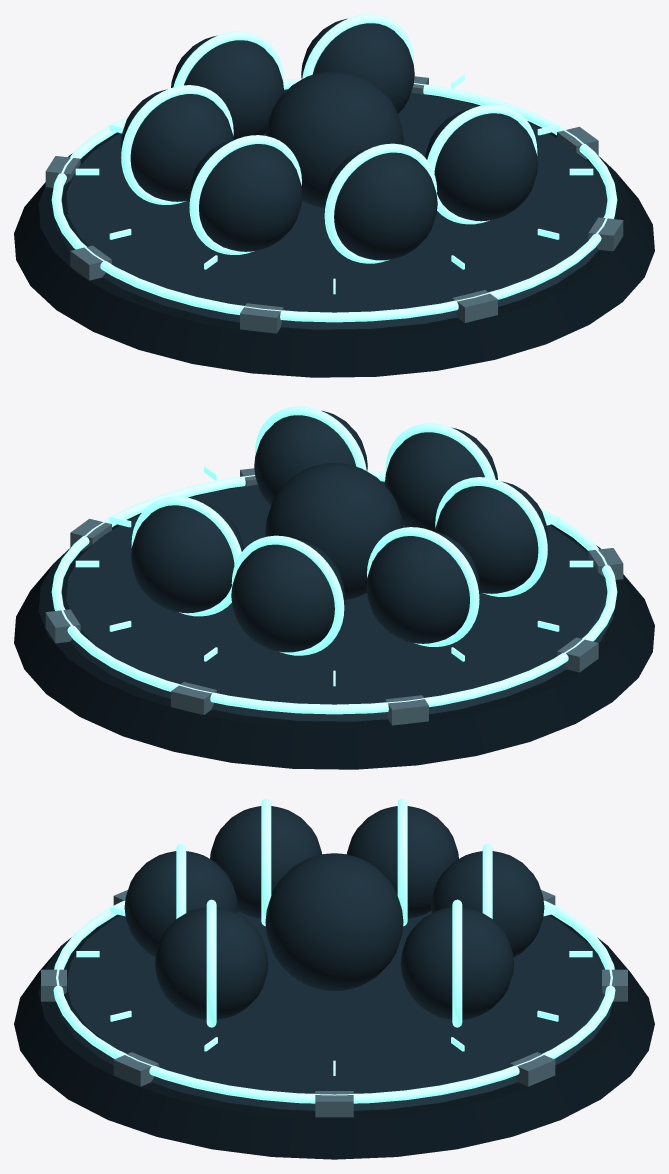
The model's file is deuteriumTank.glb.
The picture shows the model from 3 angles, top to bottom: view 1: azimuth 30°, elevation 25°; view 2: azimuth 150°, elevation 25°; view 3: azimuth 270°, elevation 25°; orthographic projection.
Parts seen in each view (by area): view 1: fuel-tank (×7), upper-deck, armored-foundation, detail (×6), perimeter-light, buttress-3, buttress-2, buttress-4, buttress-1, buttress-5, buttress-0; view 2: fuel-tank (×7), upper-deck, armored-foundation, detail (×6), perimeter-light, buttress-5, buttress-6, buttress-4, buttress-7, buttress-3, buttress-0; view 3: fuel-tank (×7), upper-deck, armored-foundation, perimeter-light, detail (×6), buttress-0, buttress-1, buttress-7, buttress-2, buttress-6.
Boxes of the visible parts, left/top/right/bottom form: fuel-tank (×7): left=120, top=18, right=537, bottom=260; upper-deck: left=55, top=89, right=614, bottom=329; armored-foundation: left=14, top=89, right=654, bottom=377; detail (×6): left=121, top=14, right=537, bottom=263; perimeter-light: left=51, top=78, right=617, bottom=322; buttress-3: left=240, top=303, right=283, bottom=333; buttress-2: left=452, top=290, right=497, bottom=322; buttress-4: left=70, top=245, right=111, bottom=280; buttress-1: left=588, top=217, right=623, bottom=251; buttress-5: left=45, top=156, right=80, bottom=187; buttress-0: left=557, top=126, right=598, bottom=159; fuel-tank (×7): left=131, top=410, right=548, bottom=652; upper-deck: left=54, top=481, right=613, bottom=721; armored-foundation: left=14, top=481, right=654, bottom=769; detail (×6): left=131, top=406, right=547, bottom=655; perimeter-light: left=51, top=470, right=617, bottom=714; buttress-5: left=385, top=695, right=428, bottom=725; buttress-6: left=171, top=682, right=216, bottom=714; buttress-4: left=557, top=637, right=598, bottom=672; buttress-7: left=45, top=609, right=80, bottom=643; buttress-3: left=588, top=548, right=623, bottom=579; buttress-0: left=70, top=518, right=111, bottom=551; fuel-tank (×7): left=124, top=806, right=544, bottom=1019; upper-deck: left=56, top=911, right=612, bottom=1110; armored-foundation: left=14, top=914, right=654, bottom=1159; perimeter-light: left=53, top=900, right=615, bottom=1103; detail (×6): left=176, top=798, right=492, bottom=1027; buttress-0: left=315, top=1091, right=353, bottom=1117; buttress-1: left=113, top=1052, right=158, bottom=1086; buttress-7: left=510, top=1052, right=555, bottom=1086; buttress-2: left=41, top=969, right=66, bottom=1001; buttress-6: left=602, top=969, right=627, bottom=1001.
Bounding box in the file's own units: 10.4 × 2.95 × 10.4.
